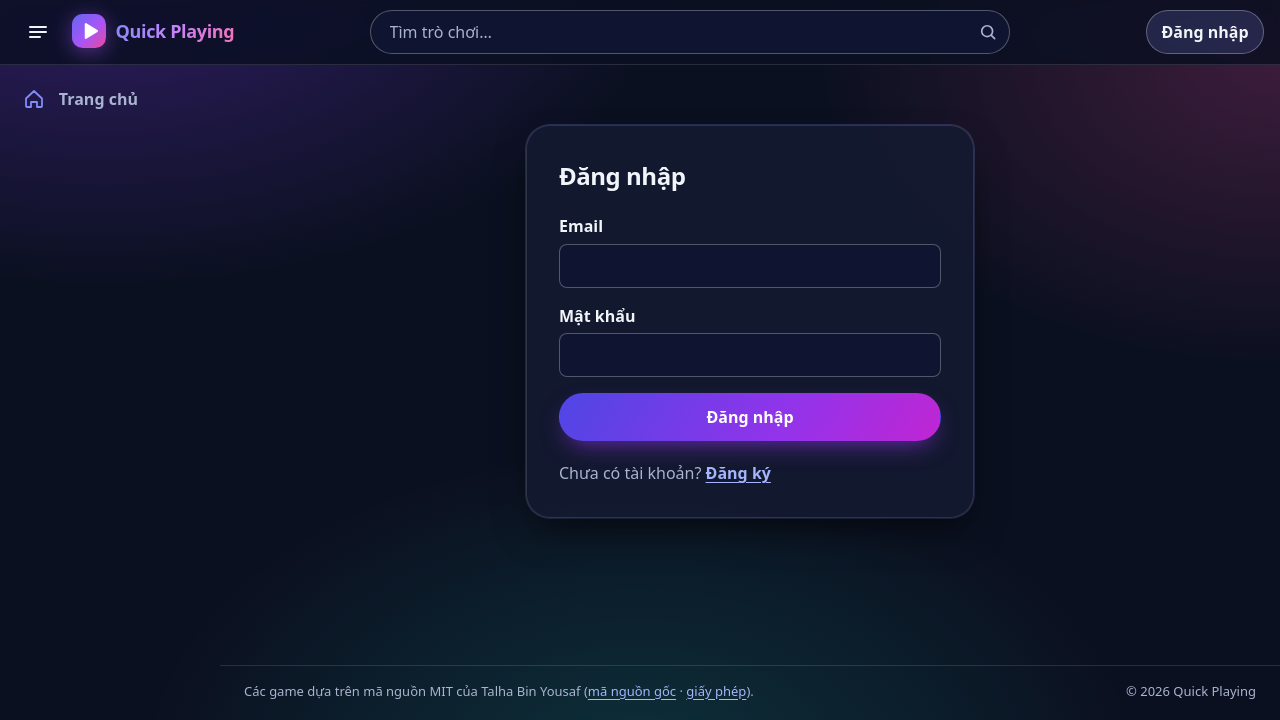
Scenario: AC28 login page › 5xx shows the connection message
Type "lan@example.com" into the field with test id "login-email".
click(750, 266); type("lan@example.com")  # box [559,244,941,288]
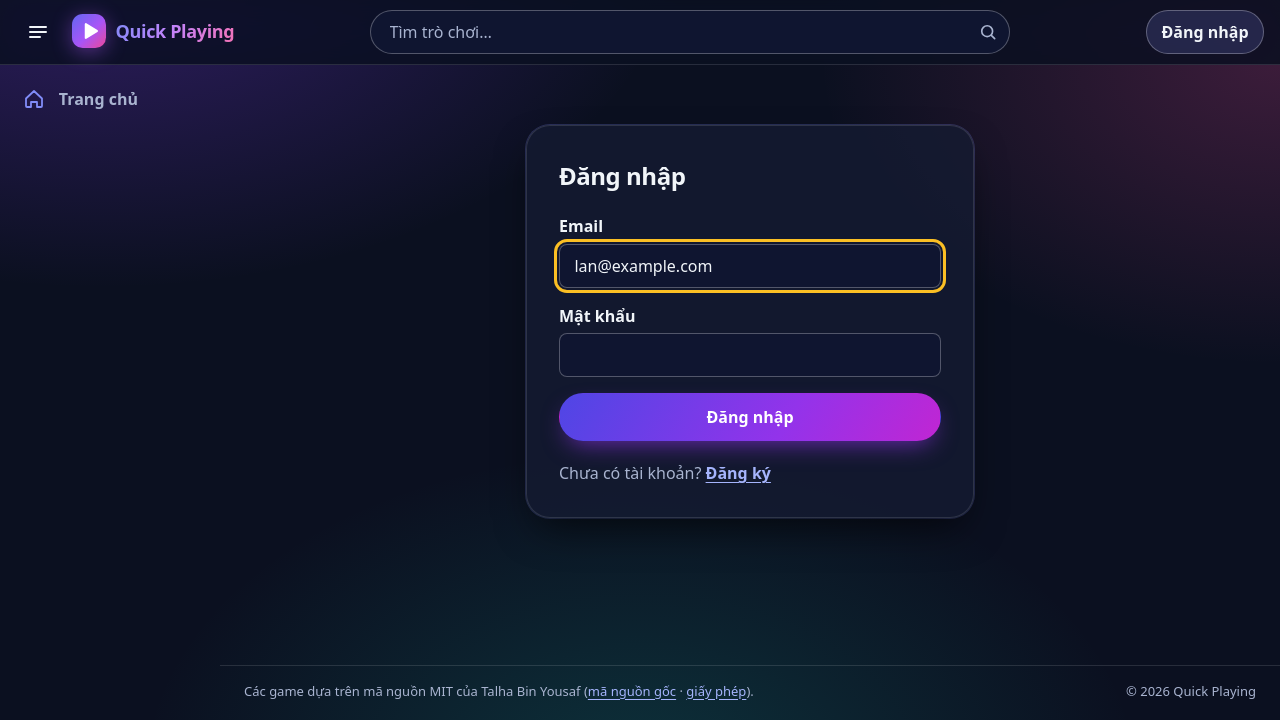
Type "mat-khau-dai-9" into the password field with test id "login-password".
click(750, 355); type("mat-khau-dai-9")  # box [559,333,941,377]
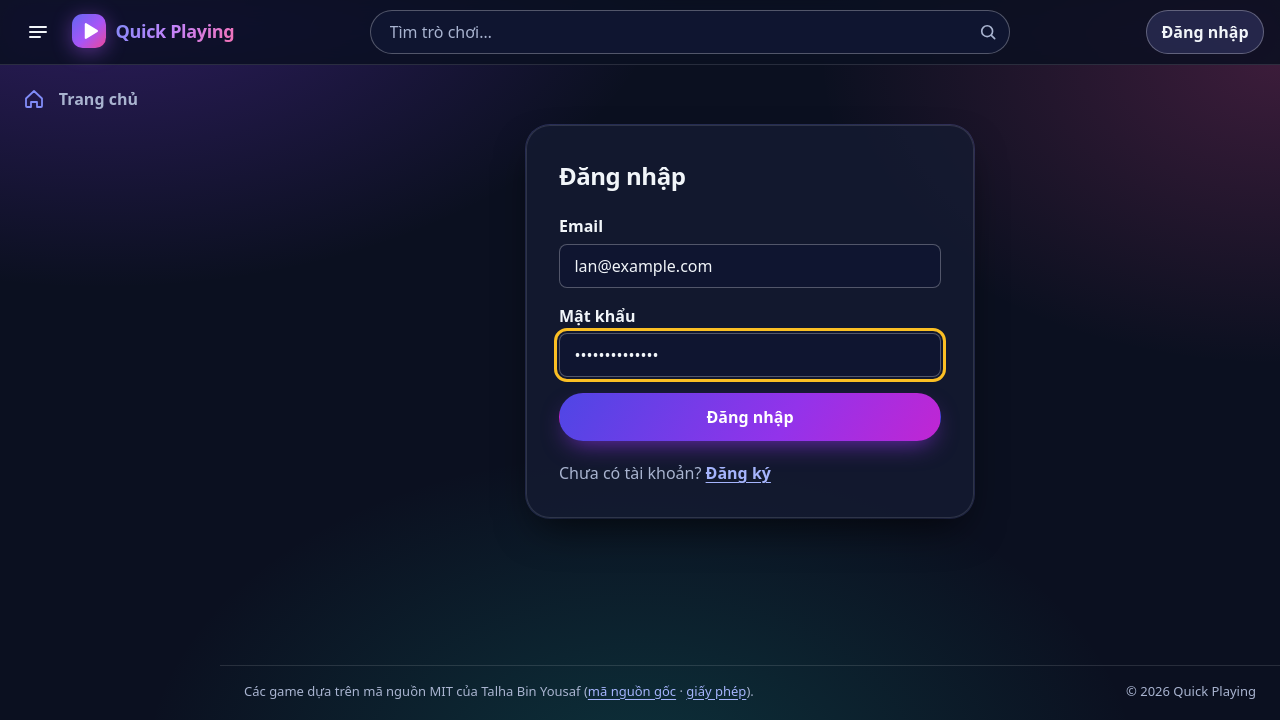
Click the button with test id "login-submit".
click(750, 417)  # box [559,393,941,441]
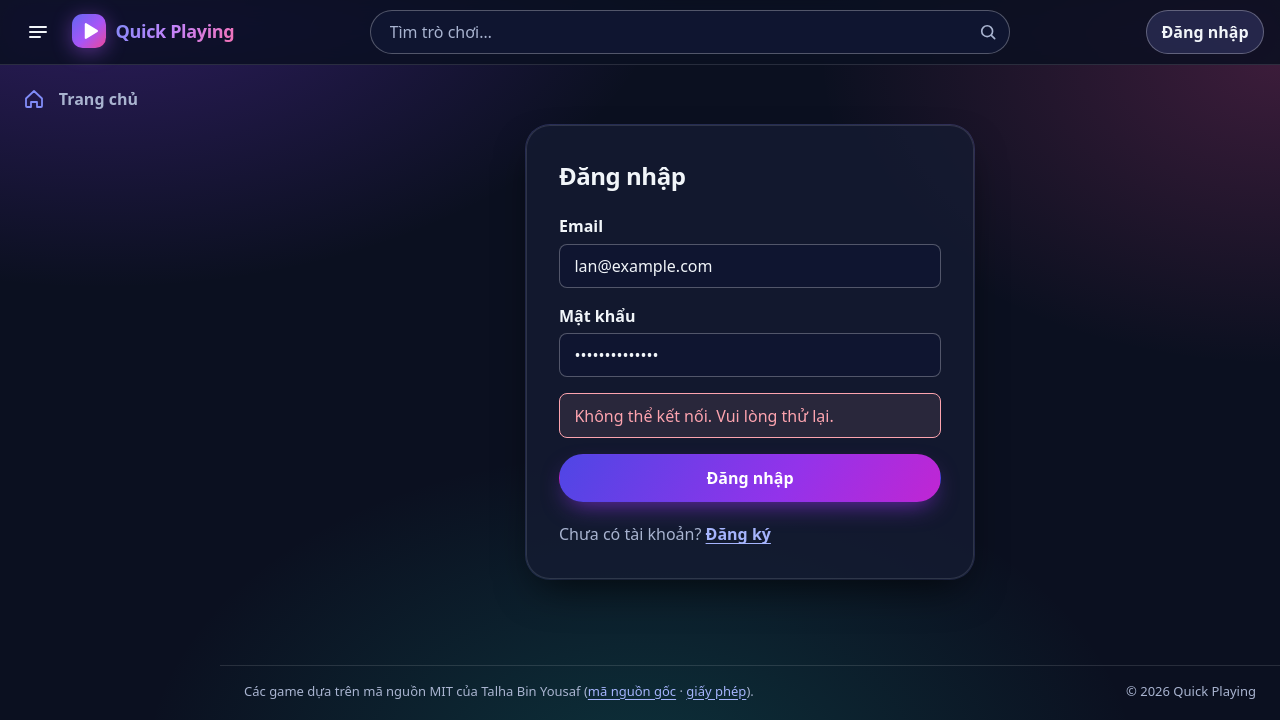
Result: the message with test id "login-error" reads "Không thể kết nối. Vui lòng thử lại." at [574,405,834,427]
